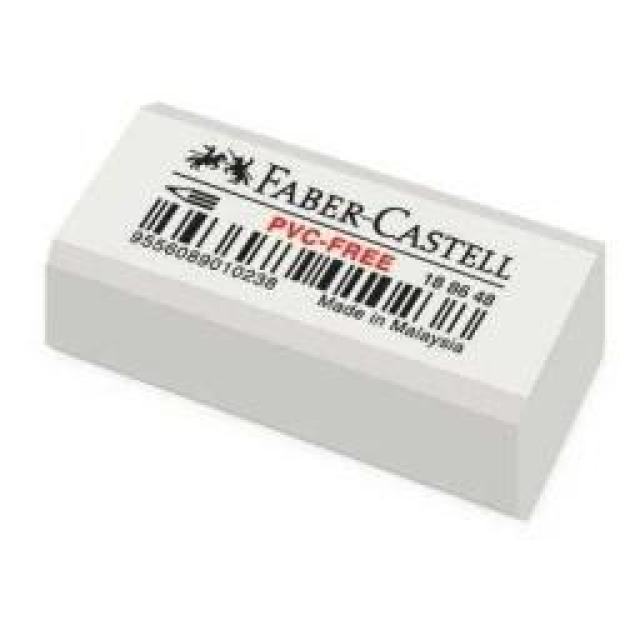Silgi: (42, 102, 606, 522)
